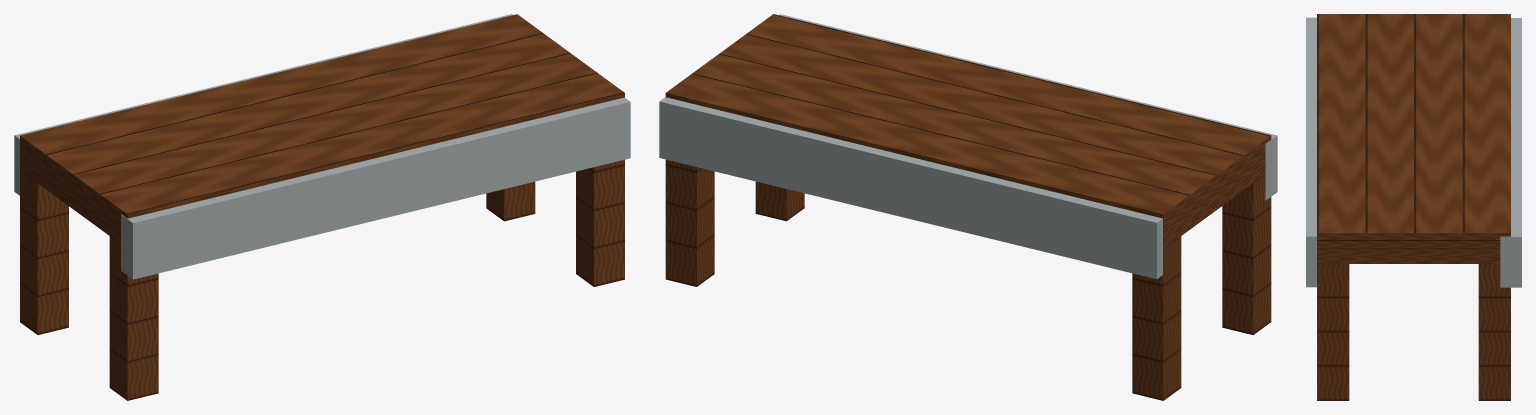
Rendered from rural-scavenging-settlements-mudroom-bench-788ce31b__26562.glb.
3 renders of one model, left to right at view 1: azimuth 30°, elevation 25°; view 2: azimuth 150°, elevation 25°; view 3: azimuth 270°, elevation 25°, orthographic. The views are drawn at different scales.
Parts seen in each view (by area): view 1: mudroom-bench; view 2: mudroom-bench; view 3: mudroom-bench.
Boxes of the visible parts, left/top/right/bottom form: mudroom-bench: left=14, top=14, right=630, bottom=400; mudroom-bench: left=659, top=14, right=1277, bottom=400; mudroom-bench: left=1306, top=14, right=1521, bottom=400.
Size of the model in its own units: 1.2 by 0.43 by 0.5.
Materials: 2 (1 with a texture image).
